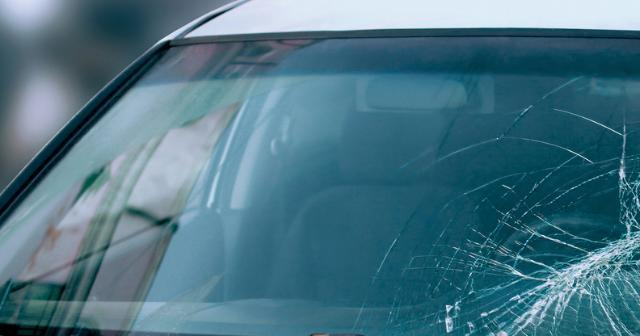Windshield: (315, 32, 640, 336)
